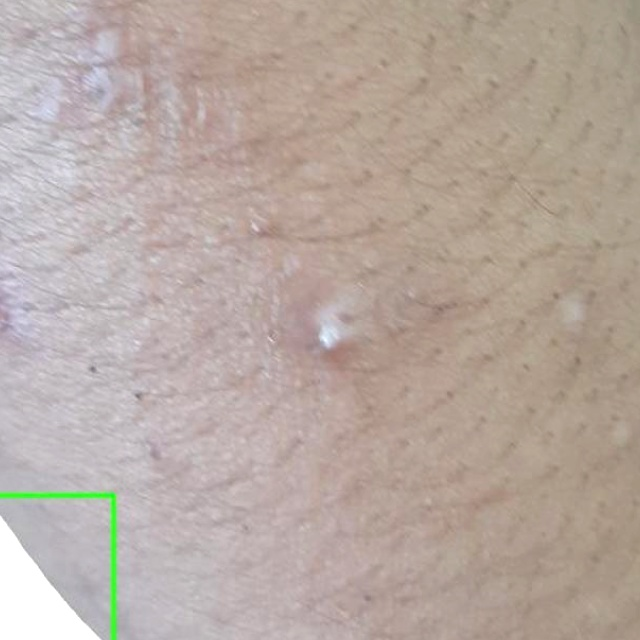Scabies: (0, 495, 115, 639)
